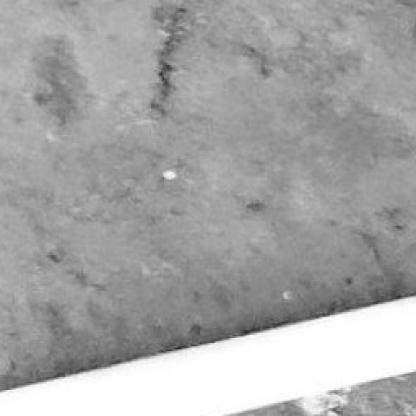PVC: (0, 296, 414, 414)
